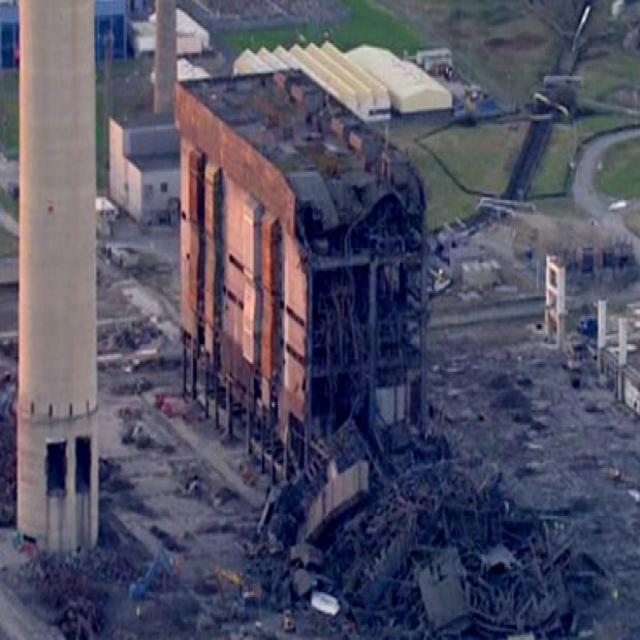collapsed_building: (174, 81, 426, 488)
